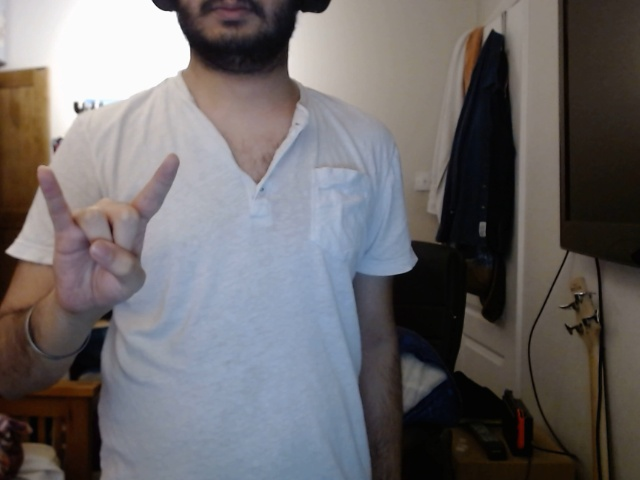Rock on: (24, 145, 189, 315)
